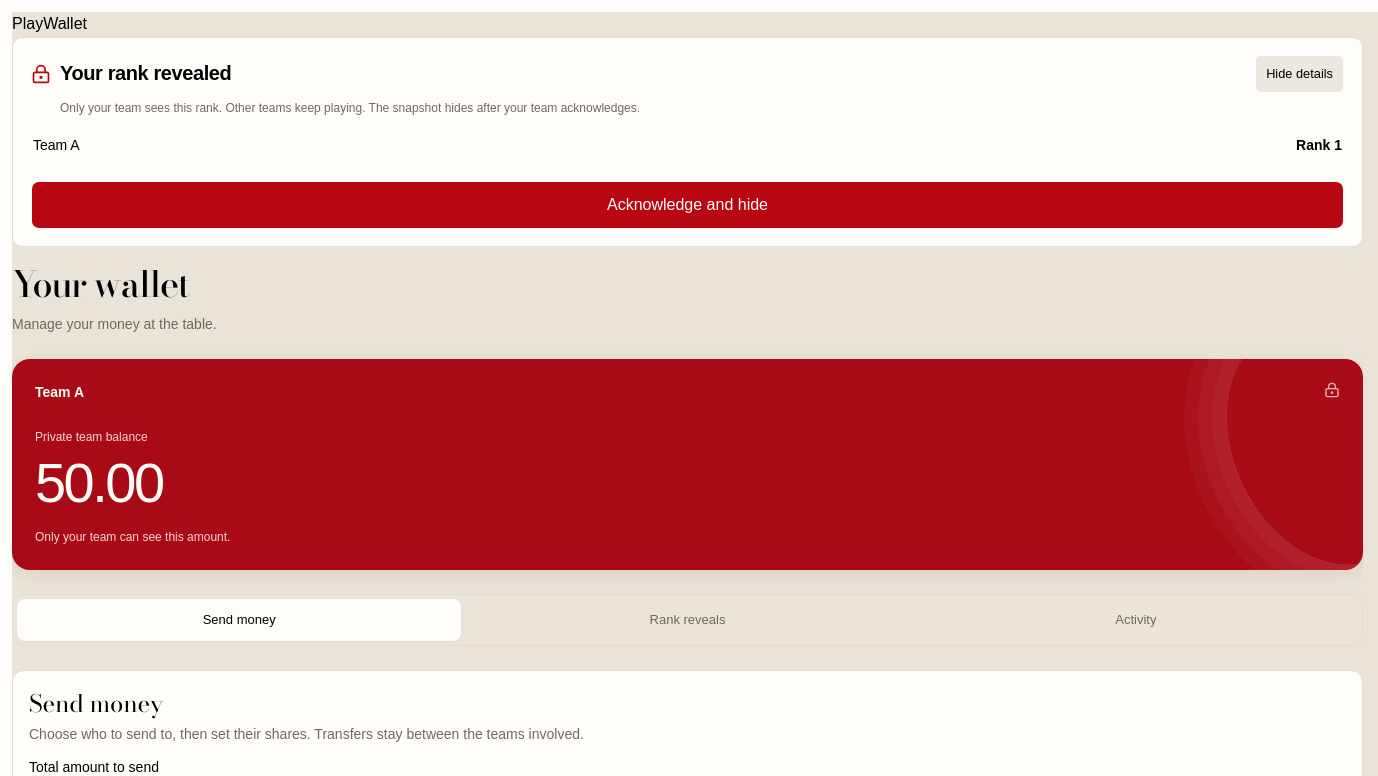
Test: player session lifetime › does not restore an acknowledged rank reveal when an older poll completes afterward
expect the heading "Your rank revealed" is shown: met, box [60,60,231,87]
What coordinates should you click on to do the following:
click the button "Acknowledge and hide"
I would click on:
 (688, 206)
Its box is [31,182,1344,230].
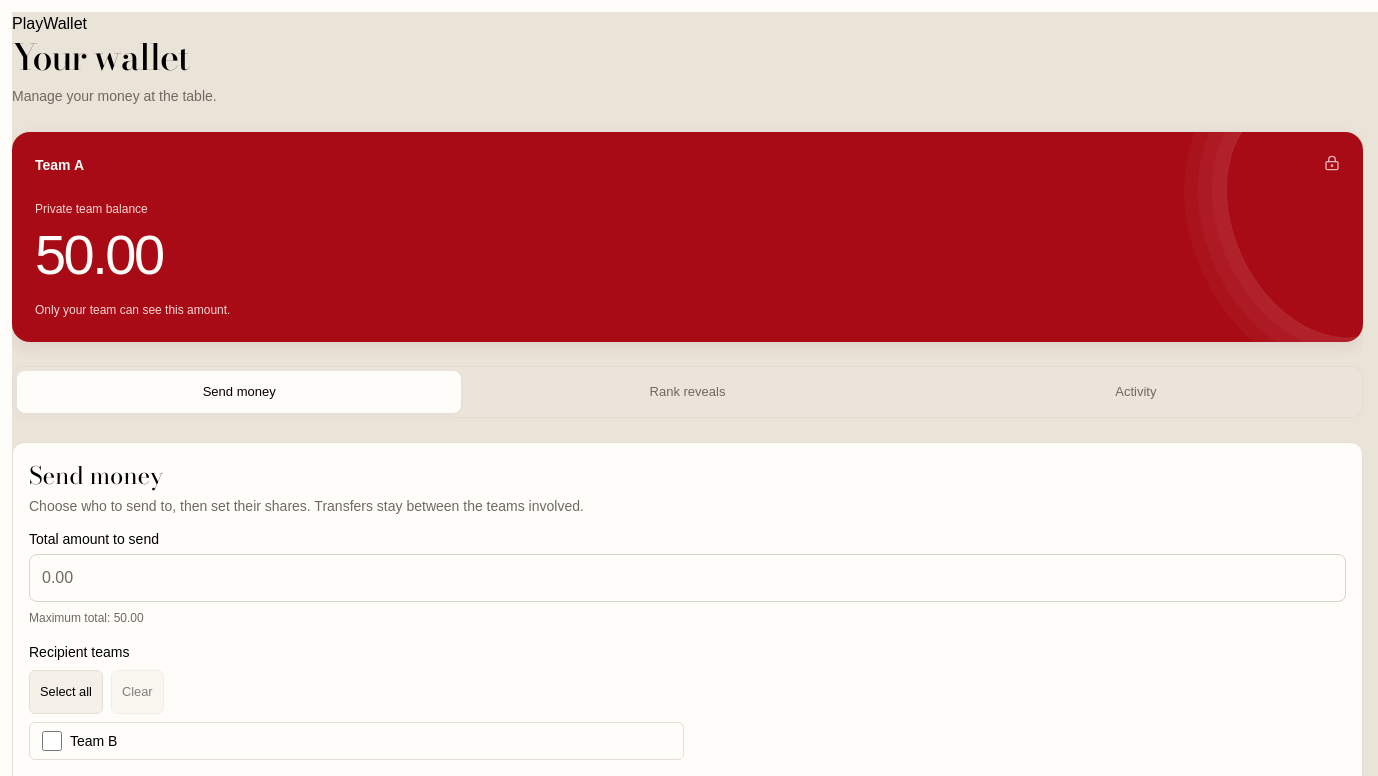
expect the heading "Your rank revealed" is gone: met
